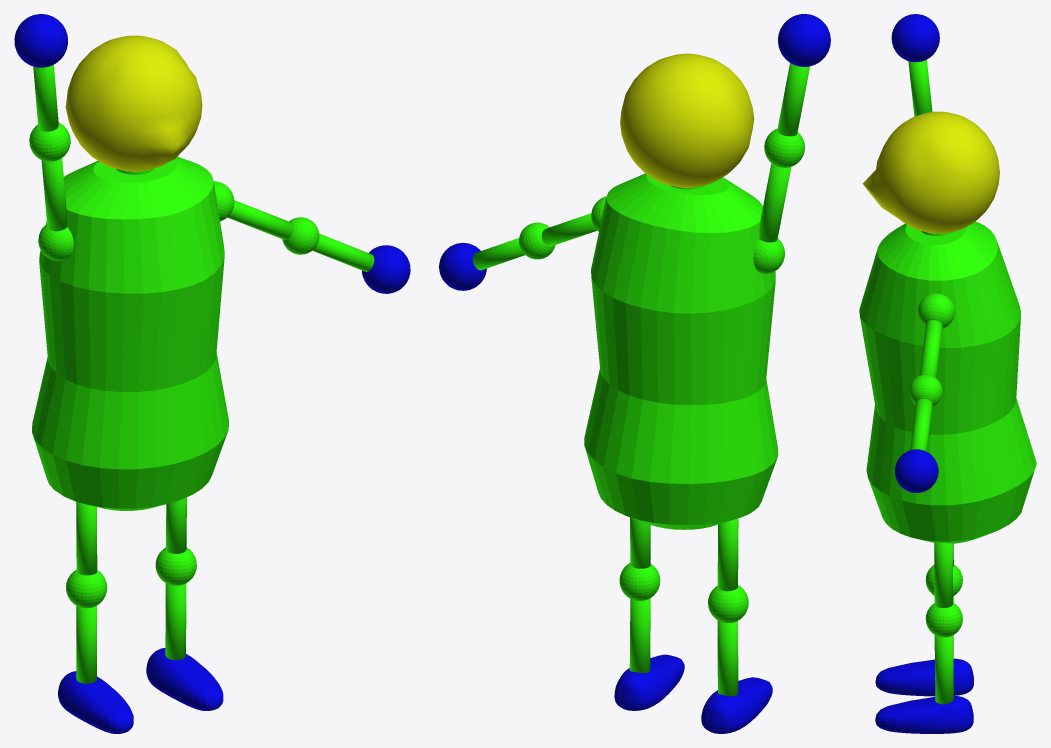
The model's file is testHierarchi_Animation.fbx.
The picture shows the model from 3 angles, left to right: view 1: azimuth 30°, elevation 25°; view 2: azimuth 150°, elevation 25°; view 3: azimuth 270°, elevation 25°; orthographic projection. The views are drawn at different scales.
Visible parts, largest first — view 1: Body, Head, LeftFoot, RightFoot, RightHand, LeftHand, LeftShin, RightShin, RightLeg, RightArm, RightSecondArm, RightKnee (+7 smaller); view 2: Body, Head, RightFoot, LeftFoot, RightHand, LeftHand, RightArm, RightShin, LeftShin, RightSecondArm, RightLeg, LeftKne (+7 smaller); view 3: Body, Head, LeftFoot, RightFoot, RightHand, LeftHand, LeftShin, LeftLeg, RightSecondArm, LeftKne, LeftShoulder, LeftArm (+3 smaller).
Boxes of the visible parts, box(x1,y1,x2,y2) form: Body: box(32, 156, 228, 510); Head: box(65, 35, 202, 171); LeftFoot: box(146, 648, 223, 710); RightFoot: box(58, 671, 133, 733); RightHand: box(14, 14, 67, 67); LeftHand: box(362, 245, 410, 293); LeftShin: box(165, 583, 186, 659); RightShin: box(76, 605, 96, 683); RightLeg: box(76, 501, 97, 575); RightArm: box(41, 158, 67, 231); RightSecondArm: box(33, 65, 58, 131); RightKnee: box(66, 570, 107, 608); Body: box(584, 173, 778, 529); Head: box(620, 53, 754, 187); RightFoot: box(701, 677, 772, 733); LeftFoot: box(614, 654, 684, 710); RightHand: box(778, 14, 830, 66); LeftHand: box(439, 242, 486, 290); RightArm: box(759, 163, 791, 242); RightShin: box(717, 620, 738, 696); LeftShin: box(629, 598, 650, 672); RightSecondArm: box(777, 63, 809, 136); RightLeg: box(717, 518, 738, 591); LeftKne: box(619, 563, 660, 600); Body: box(859, 221, 1036, 543); Head: box(862, 111, 999, 233); LeftFoot: box(875, 695, 973, 733); RightFoot: box(875, 658, 973, 696); RightHand: box(891, 14, 939, 62); LeftHand: box(895, 449, 938, 492); LeftShin: box(934, 635, 953, 704); LeftLeg: box(934, 542, 952, 607); RightSecondArm: box(908, 59, 932, 116); LeftKne: box(925, 603, 962, 637); LeftShoulder: box(918, 293, 954, 328); LeftArm: box(919, 320, 942, 377).
Bounding box in the file's own units: 2.17 × 3.84 × 0.9545.
